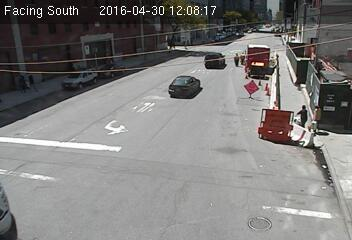neg: (4, 169, 29, 203), (114, 61, 134, 88), (289, 44, 307, 68), (317, 27, 335, 51), (167, 75, 184, 97), (132, 24, 148, 45), (244, 80, 258, 99), (257, 25, 270, 42), (178, 33, 190, 48), (235, 28, 244, 39), (209, 32, 215, 41)
pos: (308, 105, 330, 133), (293, 103, 313, 130), (23, 73, 37, 93), (238, 50, 250, 66), (231, 51, 243, 67)
